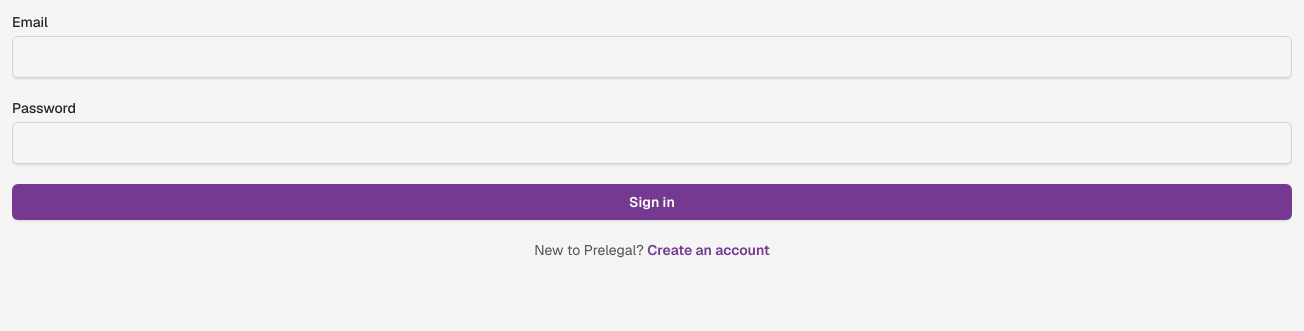
Test: AuthForm › shows why signing in failed, and lets the user try again
Type "ada@acme.test" into the field labelled "Email". click: (652, 57)
box: [12,36,1292,78]
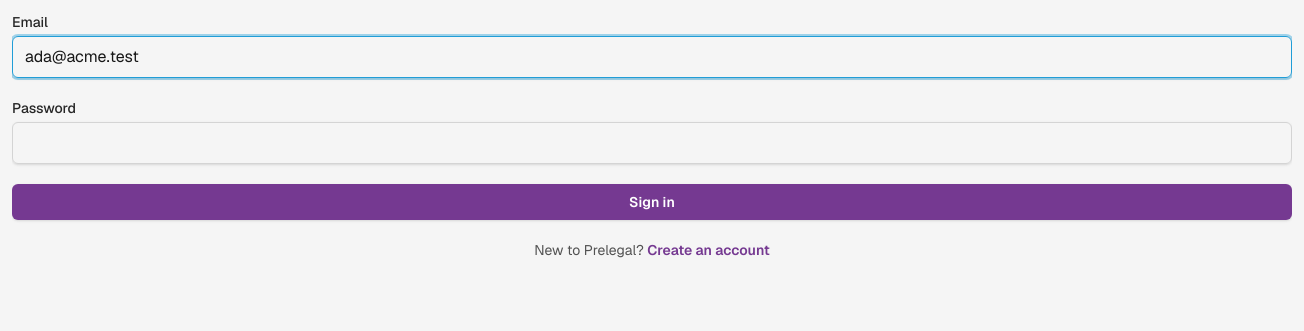
Type "wrong pass" into the password field labelled "Password". click: (652, 143)
box: [12,122,1292,164]
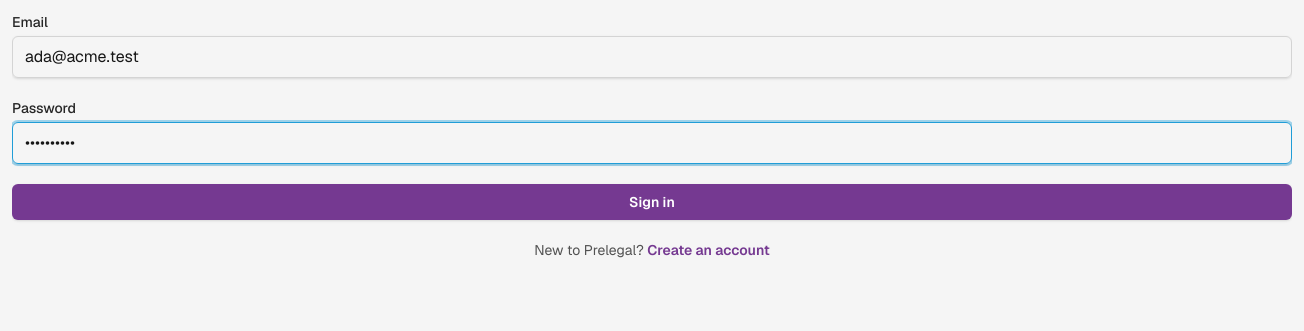
Click the button "Sign in". click: (652, 202)
box: [12,184,1292,220]
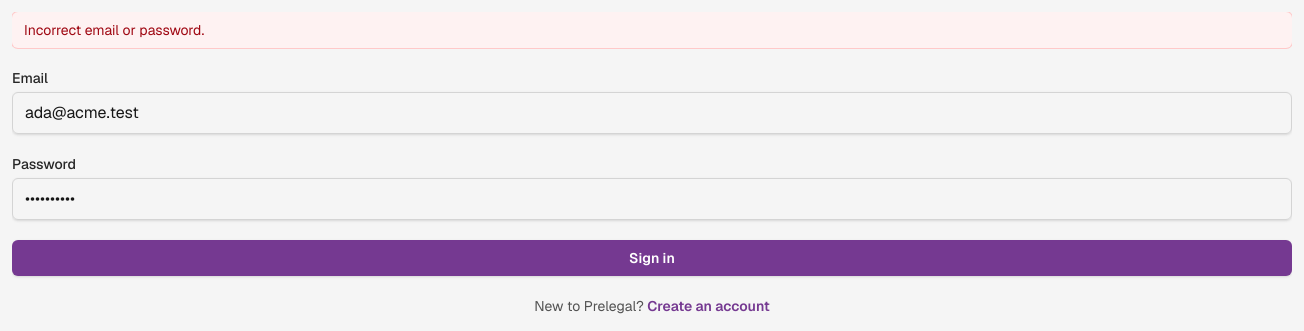
Expected: the button "Sign in" is enabled, [12,240,1292,276]
Expected: the message reads "Incorrect email or password.", [24,21,204,39]
